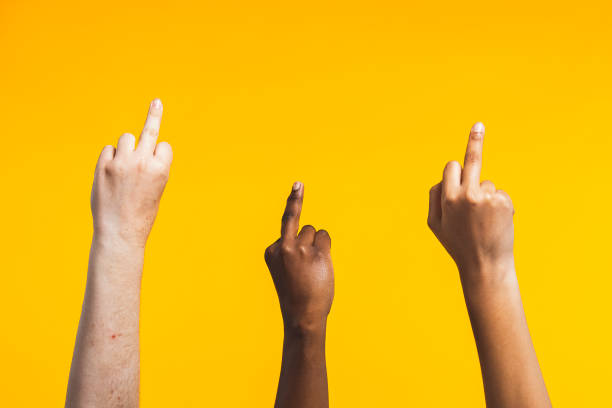insulting_gesture: (426, 121, 516, 278), (88, 93, 174, 224), (265, 179, 340, 317)
